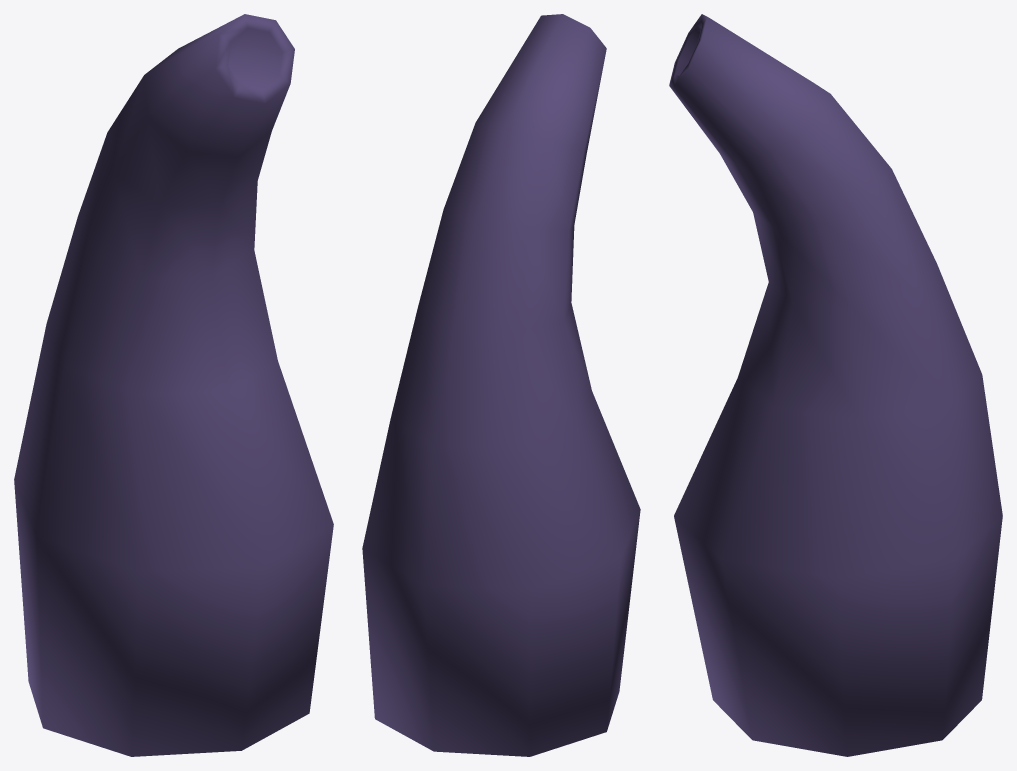
The model's file is rpgpp_ag_alchemy_bottle_02c.fbx.
3 views of the same model, side by side, from view 1: azimuth 30°, elevation 25°; view 2: azimuth 150°, elevation 25°; view 3: azimuth 270°, elevation 25° (orthographic). The views are drawn at different scales.
Parts seen in each view (by area): view 1: rpgpp_ag_alchemy_bottle_02c; view 2: rpgpp_ag_alchemy_bottle_02c; view 3: rpgpp_ag_alchemy_bottle_02c.
Part boxes in pixels (x1=…): rpgpp_ag_alchemy_bottle_02c: x1=14, y1=14, x2=333, y2=756; rpgpp_ag_alchemy_bottle_02c: x1=362, y1=14, x2=640, y2=756; rpgpp_ag_alchemy_bottle_02c: x1=669, y1=14, x2=1002, y2=756.
Bounding box in the file's own units: 0.101 × 0.2599 × 0.115.
